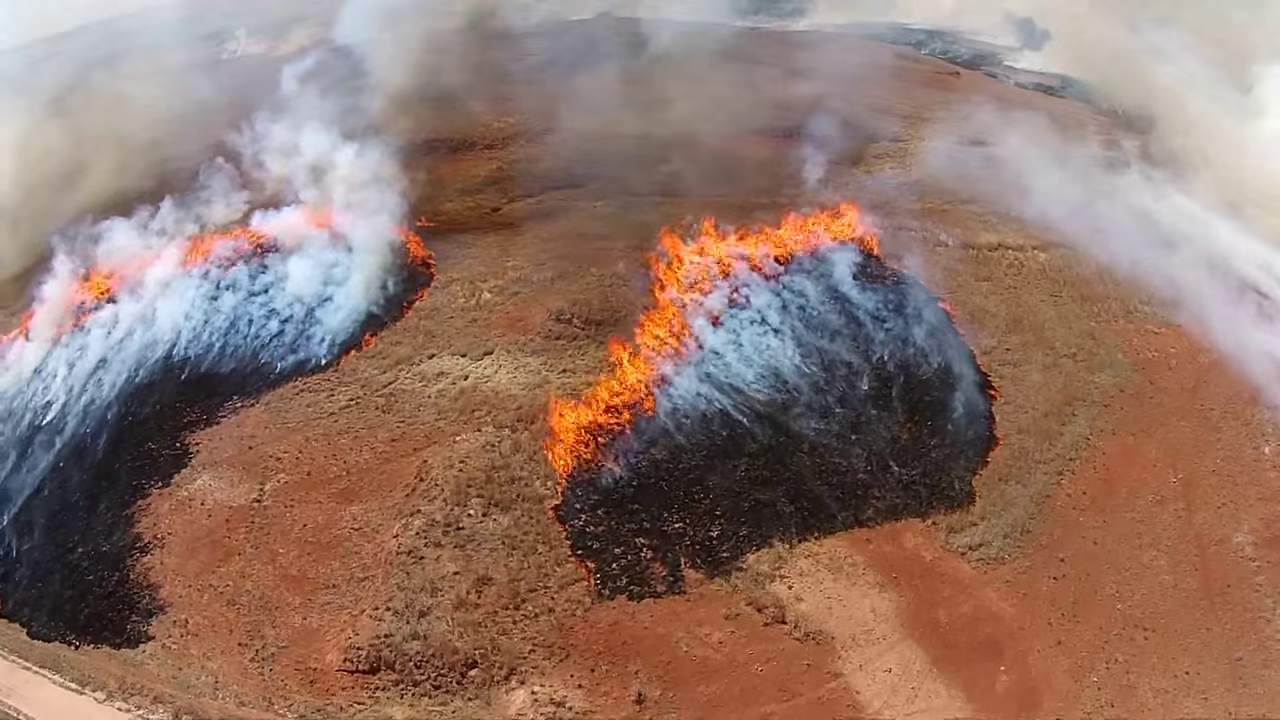forest_fire: (545, 203, 882, 488), (57, 256, 153, 332), (178, 227, 282, 268), (397, 227, 434, 281)
